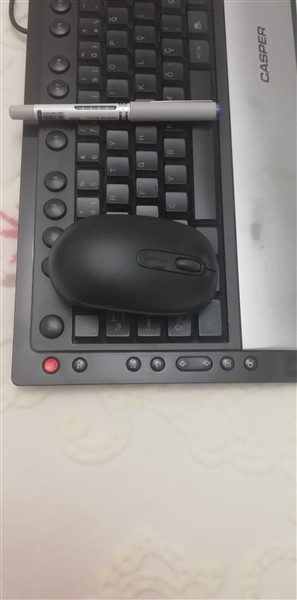klavye: (18, 1, 292, 389)
mouse: (44, 210, 229, 324)
pilot kalem: (10, 94, 230, 132)
